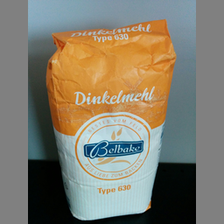flour: (44, 18, 177, 222)
